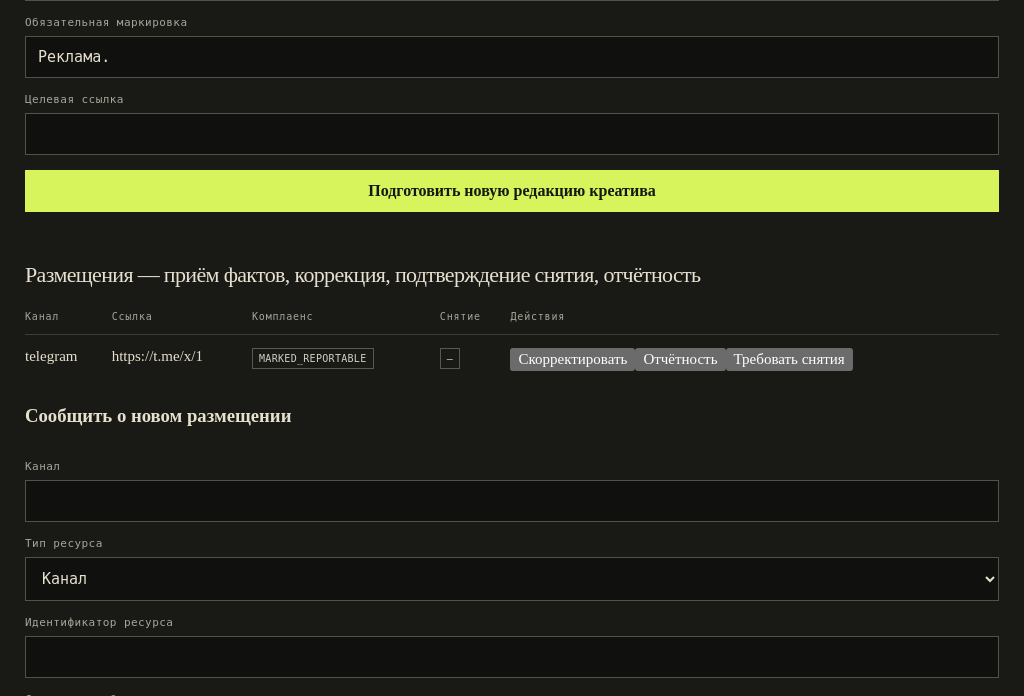
Engagements (Agent Referrals admin console): distribution removal verification › round-4 fix: an invalid statistics JSON payload surfaces a validation message instead of throwing, and does not submit
(page scrolled)
Click the button "Отчётность": (680, 360) [635,348,726,371]
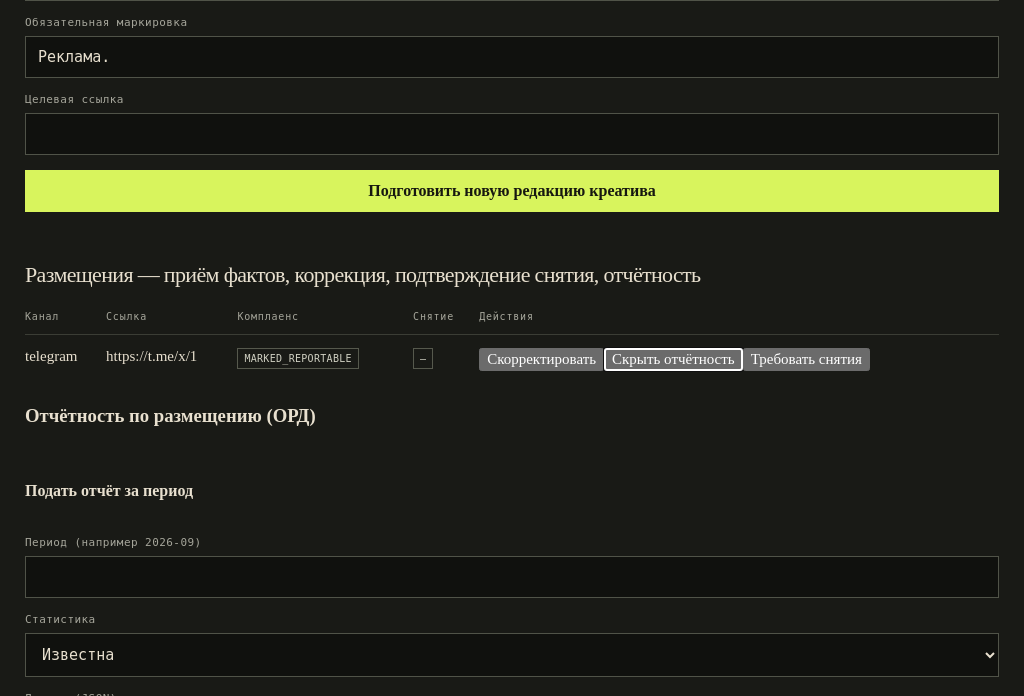
In the field labelled "Период (например 2026-09)": (512, 577) [25,556,999,598], type "2026-09"
(page scrolled)
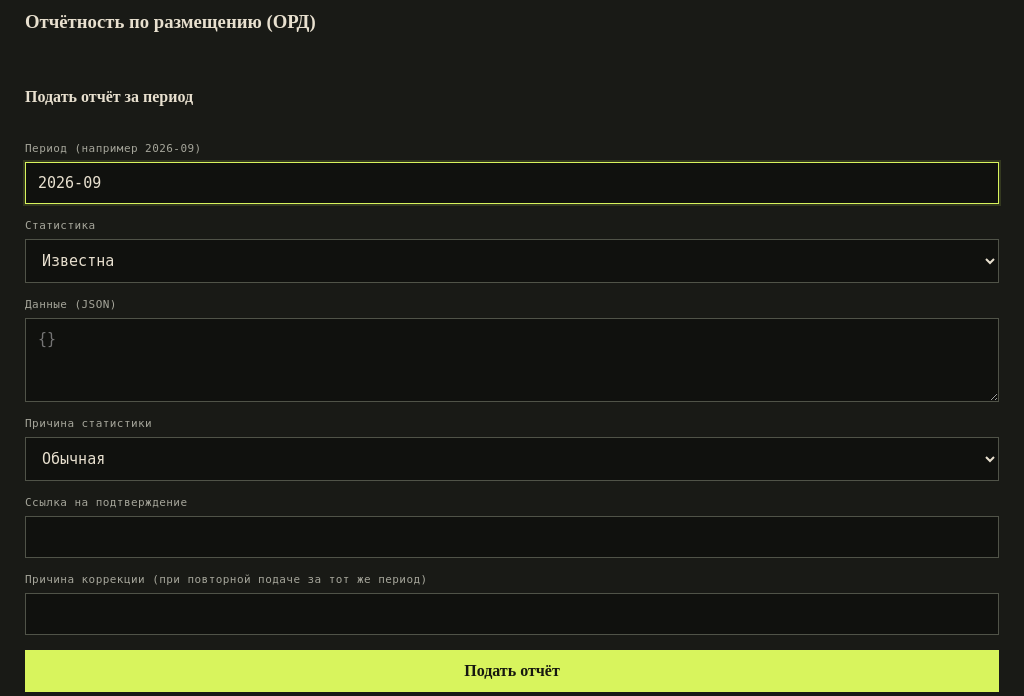
In the text box labelled "Данные (JSON)": (512, 360) [25,318,999,402], type "not json"
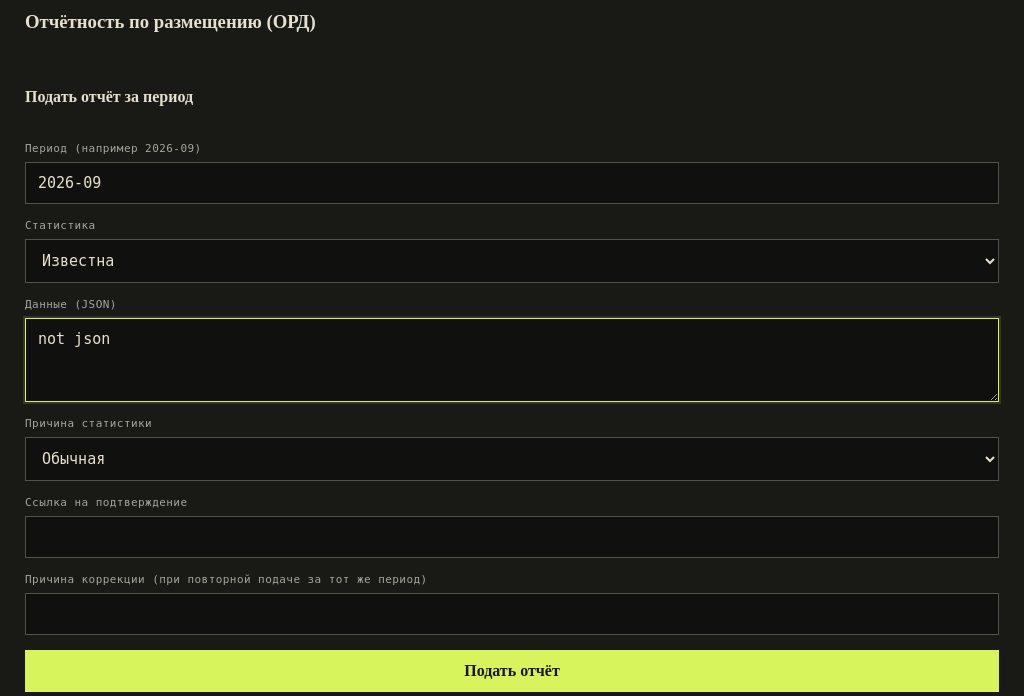
In the field labelled "Ссылка на подтверждение": (512, 537) [25,516,999,558], type "ord-report-evidence"
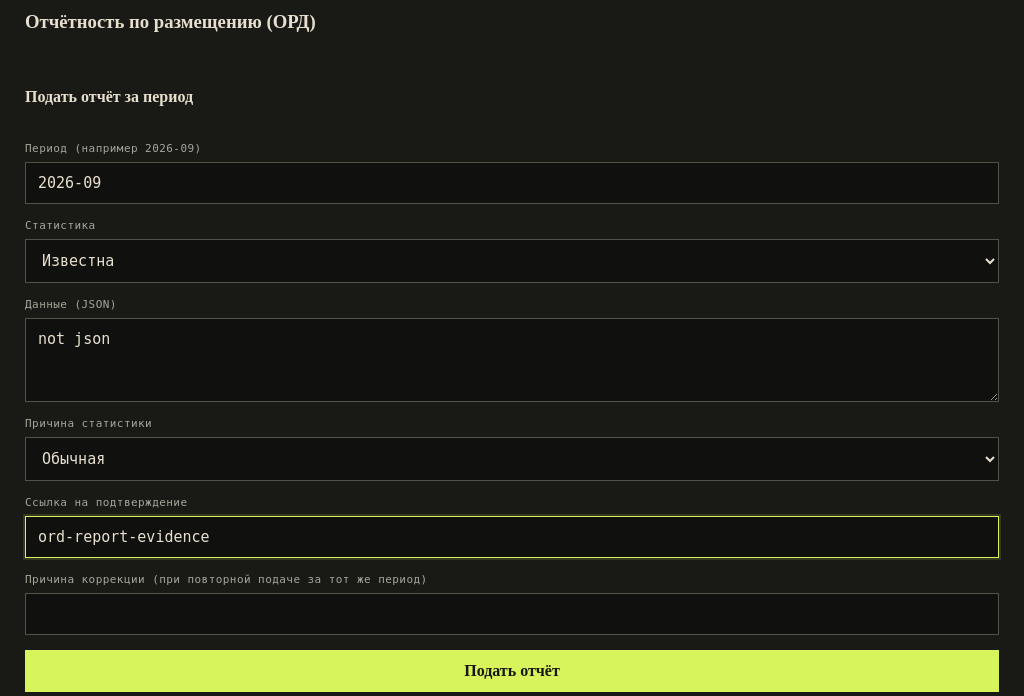
Click the button "Подать отчёт": (512, 671) [25,650,999,692]
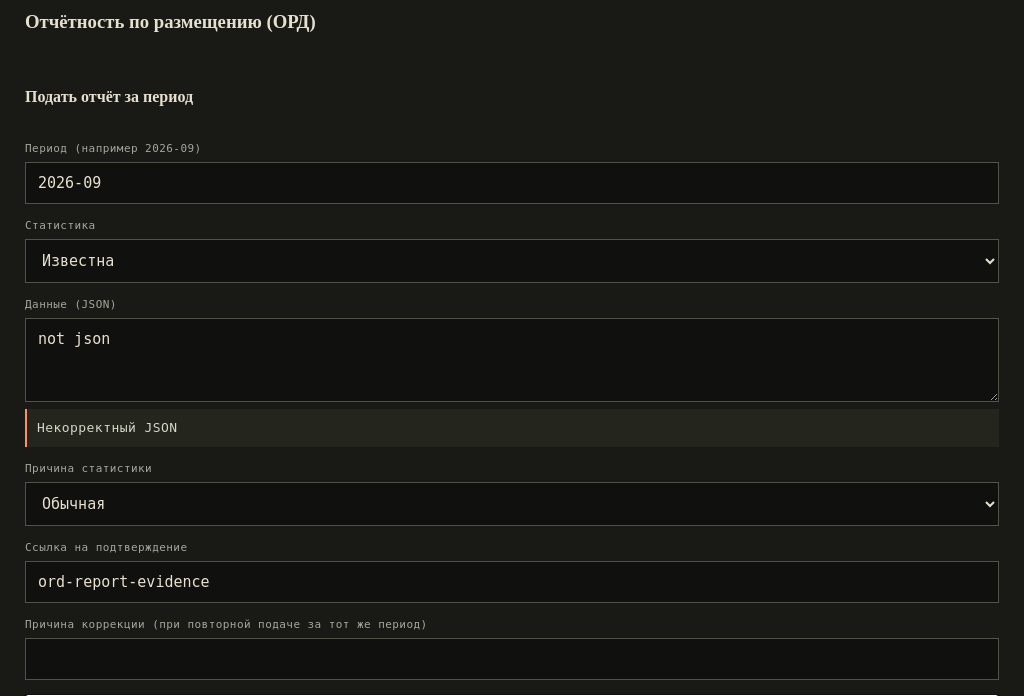
Now the text "Некорректный JSON" is shown, box [25,409,999,447]
